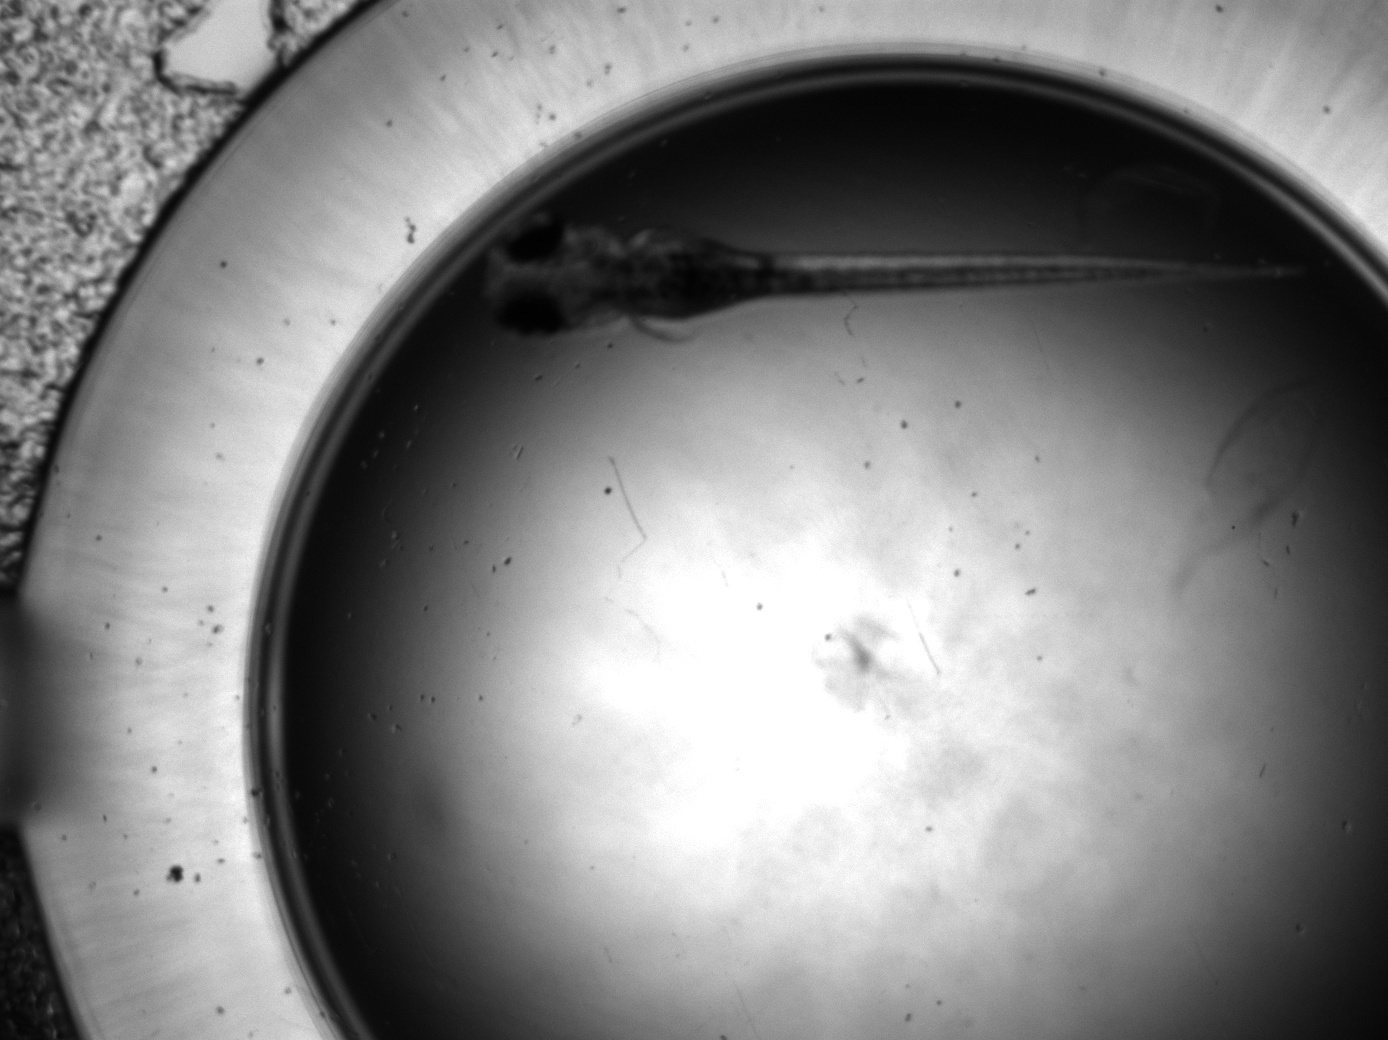embryo: (484, 215, 1312, 343)
eye: (490, 284, 568, 336), (501, 215, 566, 264)
yolksac: (624, 226, 776, 323)
